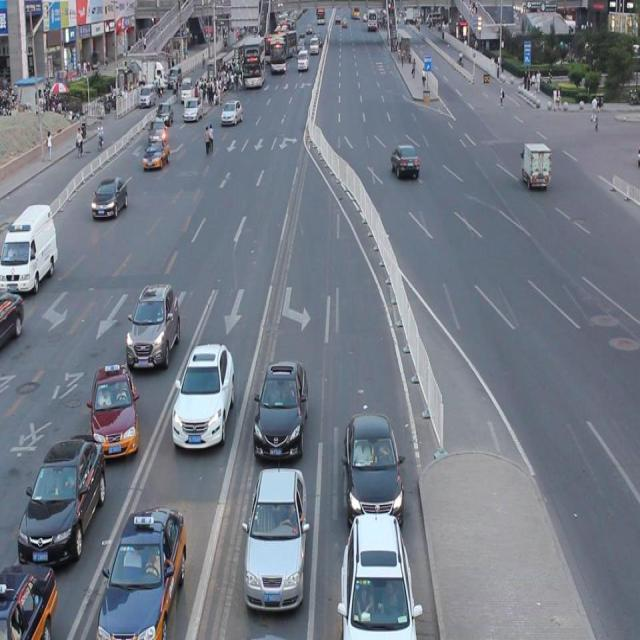bus: (520, 142, 549, 188)
car: (92, 501, 188, 640), (17, 431, 106, 568), (339, 508, 419, 640), (242, 463, 306, 611), (171, 339, 236, 449), (343, 408, 403, 527), (252, 357, 308, 460), (89, 361, 140, 460), (124, 279, 180, 369), (1, 558, 57, 640), (91, 175, 129, 220), (1, 288, 24, 347), (390, 143, 418, 179), (142, 138, 170, 170)
truck: (1, 203, 58, 295)
